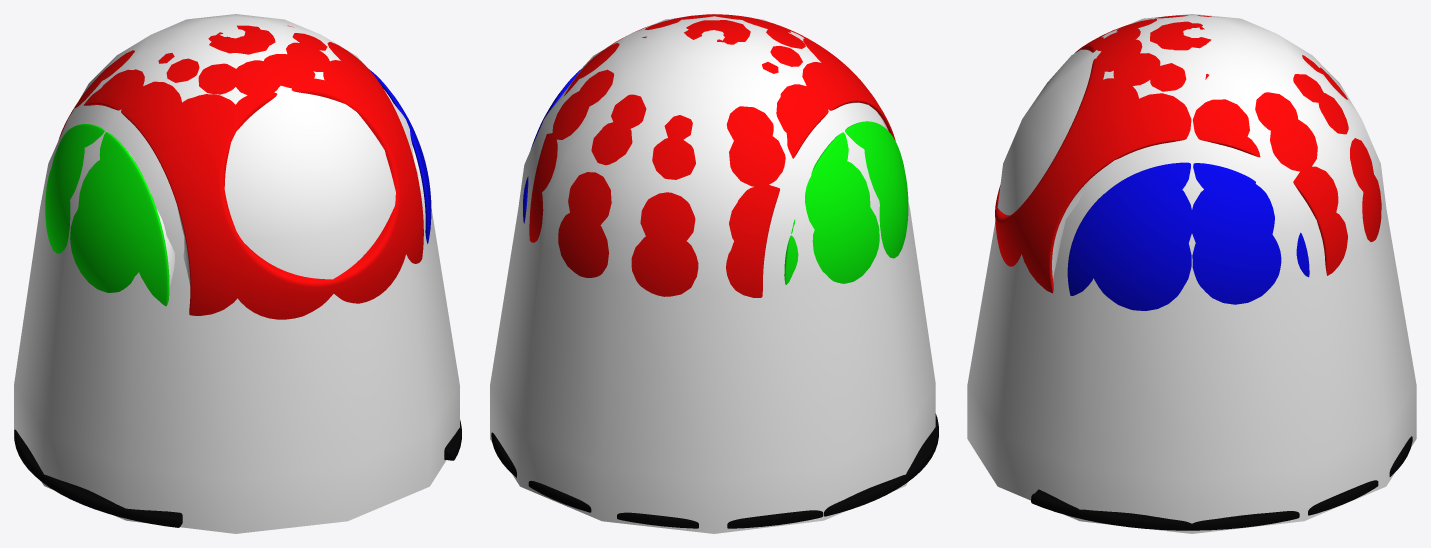
File: shaderBall_h.glb
3 views of the same model, side by side, from view 1: azimuth 30°, elevation 25°; view 2: azimuth 150°, elevation 25°; view 3: azimuth 270°, elevation 25° (orthographic).
Visible parts, largest first — view 1: ball_s, ball_1, ball_2; view 2: ball_s, ball_1; view 3: ball_s, ball_1, ball_2.
Part boxes in pixels (box(x1,y1,x2,y2)): ball_s: box(14, 14, 459, 533); ball_1: box(14, 25, 461, 527); ball_2: box(127, 90, 425, 287); ball_s: box(490, 14, 935, 533); ball_1: box(491, 14, 938, 528); ball_s: box(967, 14, 1416, 533); ball_1: box(995, 15, 1412, 530); ball_2: box(1052, 180, 1089, 278).
Bounding box in the file's own units: 0.8038 × 0.8046 × 0.8046.
